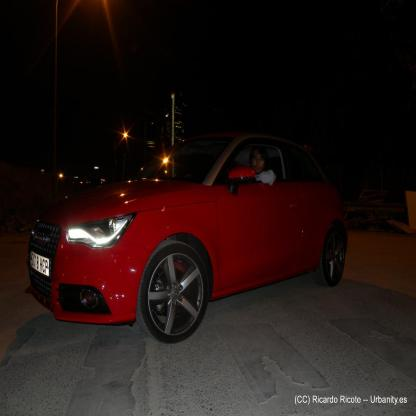Car: (26, 132, 350, 344)
